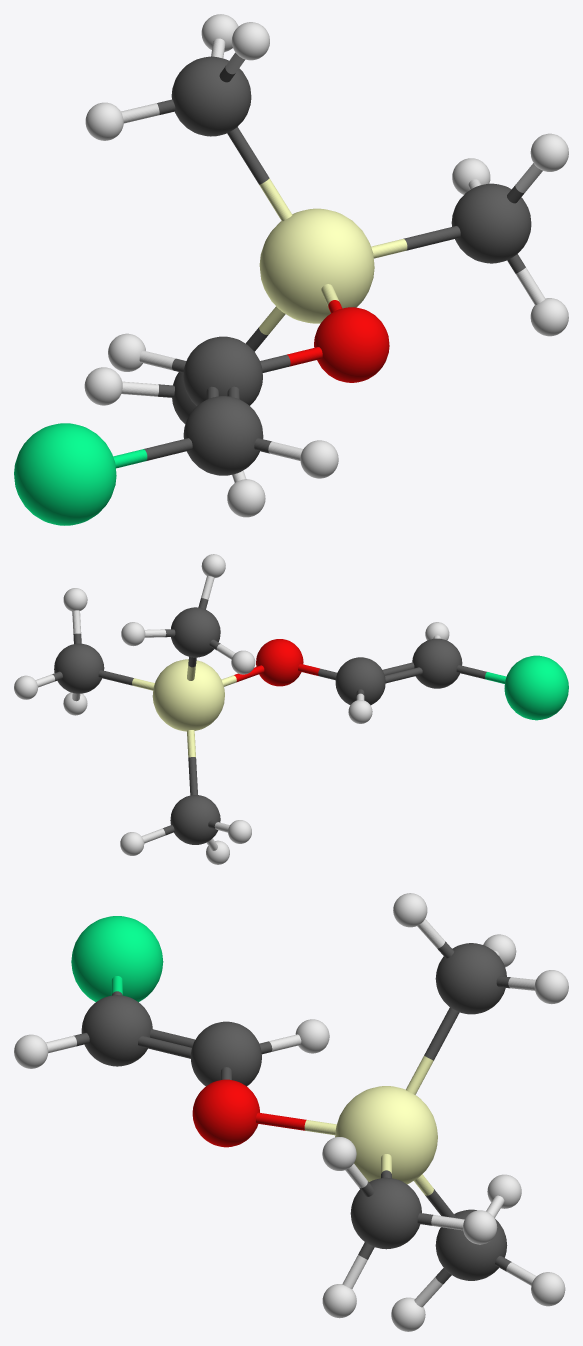
Rendered from E-2-chlorovinyloxytrimethylsilane.fbx.
3 renders of one model, top to bottom at view 1: azimuth 30°, elevation 25°; view 2: azimuth 150°, elevation 25°; view 3: azimuth 270°, elevation 25°, orthographic. The views are drawn at different scales.
Parts seen in each view (by area): view 1: Si06, Cl19, C01, C15, C11, O05, C03, Si06-C11, H02, H08, H10, H14 (+13 smaller); view 2: Si06, Cl19, C15, C11, C07, C01, C03, O05, Si06-C07, H14, Si06-C15, H17 (+9 smaller); view 3: Si06, Cl19, C11, C15, C01, O05, C03, C07, Si06-C11, H12, H02, O05-Si06 (+13 smaller).
Boxes of the visible parts, x1=… form: Si06: x1=259, y1=208, x2=374, y2=323; Cl19: x1=14, y1=423, x2=116, y2=525; C01: x1=183, y1=396, x2=263, y2=475; C15: x1=451, y1=183, x2=531, y2=263; C11: x1=171, y1=56, x2=251, y2=136; O05: x1=314, y1=307, x2=389, y2=382; C03: x1=183, y1=336, x2=262, y2=405; Si06-C11: x1=227, y1=127, x2=292, y2=221; H02: x1=300, y1=440, x2=338, y2=478; H08: x1=84, y1=367, x2=122, y2=405; H10: x1=227, y1=479, x2=265, y2=517; H14: x1=85, y1=102, x2=123, y2=140; Si06: x1=152, y1=659, x2=224, y2=731; Cl19: x1=504, y1=655, x2=568, y2=720; C15: x1=54, y1=643, x2=104, y2=693; C11: x1=171, y1=607, x2=220, y2=657; C07: x1=170, y1=795, x2=220, y2=844; C01: x1=412, y1=638, x2=462, y2=688; C03: x1=335, y1=657, x2=385, y2=705; O05: x1=256, y1=639, x2=303, y2=686; Si06-C07: x1=187, y1=730, x2=197, y2=795; H14: x1=231, y1=650, x2=255, y2=674; Si06-C15: x1=98, y1=670, x2=154, y2=690; H17: x1=14, y1=675, x2=37, y2=699; Si06: x1=335, y1=1086, x2=437, y2=1184; Cl19: x1=71, y1=916, x2=163, y2=1001; C11: x1=435, y1=943, x2=506, y2=1014; C15: x1=350, y1=1177, x2=421, y2=1249; C01: x1=81, y1=995, x2=152, y2=1066; O05: x1=192, y1=1079, x2=259, y2=1147; C03: x1=190, y1=1021, x2=261, y2=1086; C07: x1=435, y1=1209, x2=507, y2=1280; Si06-C11: x1=406, y1=1007, x2=459, y2=1094; H12: x1=393, y1=893, x2=427, y2=927; H02: x1=14, y1=1034, x2=48, y2=1068; O05-Si06: x1=256, y1=1112, x2=336, y2=1135.
Bounding box in the file's own units: 745 × 521 × 598.
